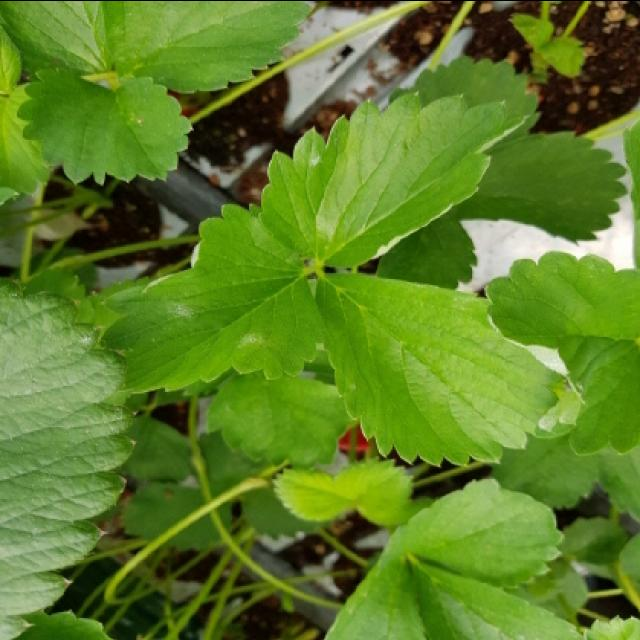Powdery Mildew Leaf: (255, 88, 534, 270), (0, 274, 137, 640), (96, 201, 328, 393), (482, 250, 638, 455)
